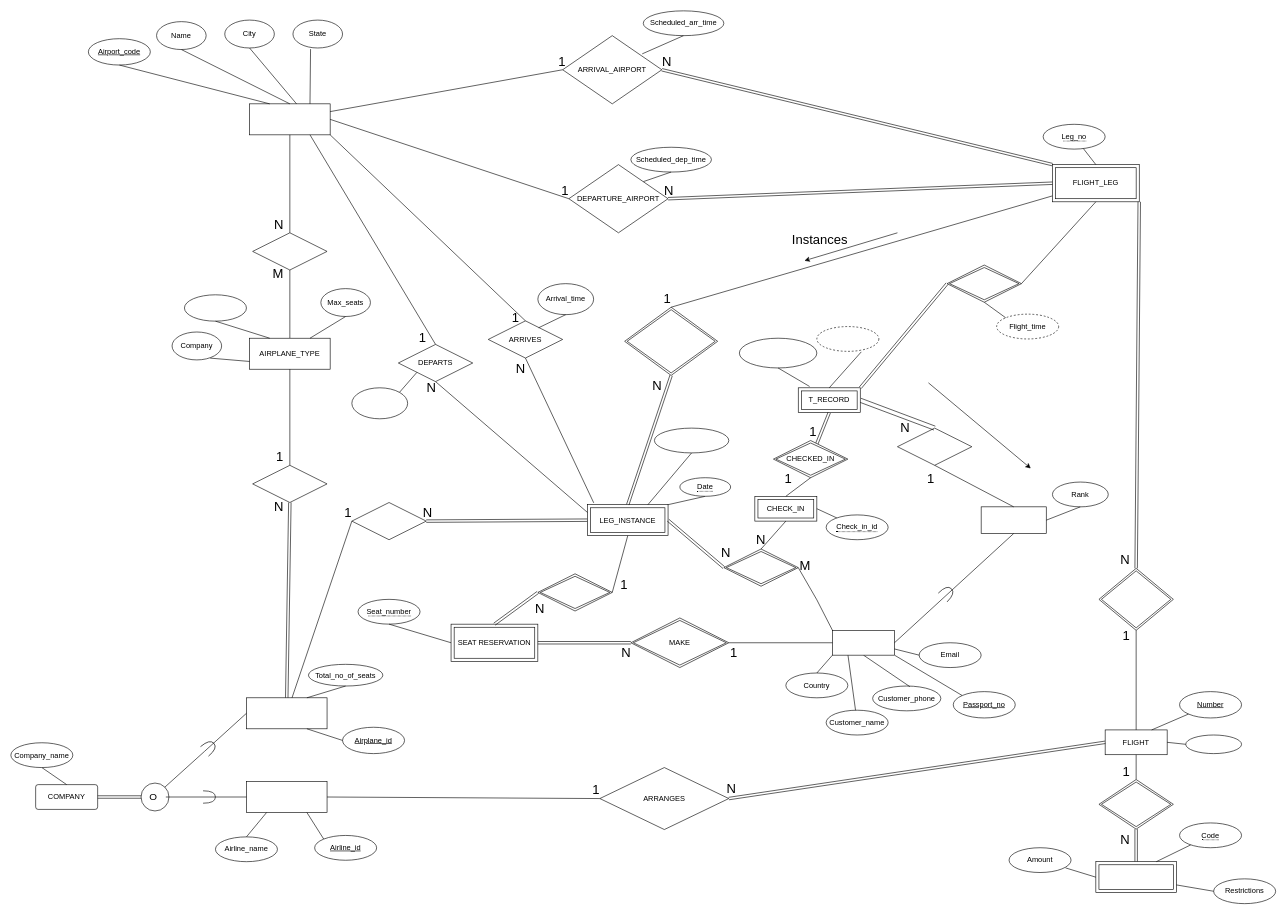
Image size: 1287x915. Some labels were removed from this diagram. Each missing label, with the centre of its shape:
AIRLINE: point 286,797
AIRPLANE: point 286,713
AIRPORT: point 289,119
ASSIGNED: point 388,521
CAN_LAND: point 289,251
CUSTOMER: point 863,642
DECIDES: point 934,446
Departure_time: point 379,403
FARE: point 1135,877
FARES: point 1135,804
FF_CUSTOMER: point 1013,520
HAS: point 574,592
HAS_TICKET: point 760,567
INSTANCE_OF: point 671,341
LEGS: point 1135,599
Mileage_information: point 778,353
No_of_avail_seats: point 691,440
Total_mil_point: point 847,338
TRANSACTION: point 983,283
TYPE: point 289,484
Type_name: point 215,307
Weekdays: point 1213,744
